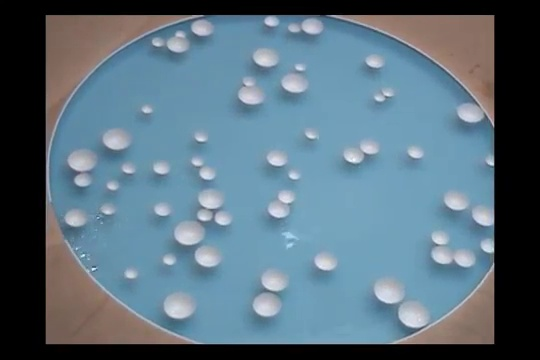bowl: (395, 299, 431, 329), (370, 274, 407, 303), (172, 219, 210, 246), (162, 291, 197, 319), (64, 147, 100, 172), (251, 291, 283, 318), (260, 267, 292, 292), (193, 244, 224, 268), (252, 46, 284, 69), (102, 128, 134, 150), (236, 85, 268, 107), (443, 188, 472, 212), (281, 72, 310, 95), (196, 187, 226, 208), (457, 102, 485, 124), (64, 205, 89, 229), (471, 203, 494, 228), (313, 249, 339, 271), (341, 146, 367, 167), (430, 244, 455, 265), (166, 33, 192, 53), (455, 245, 477, 268), (363, 52, 389, 71), (191, 19, 218, 37), (301, 16, 325, 36), (267, 200, 292, 218), (265, 148, 289, 166), (360, 137, 381, 157), (72, 172, 94, 190), (151, 159, 172, 177), (213, 208, 231, 228), (431, 228, 452, 245), (406, 144, 426, 160), (154, 201, 172, 218), (278, 188, 296, 205), (263, 15, 283, 29), (303, 126, 321, 141), (199, 166, 218, 180), (100, 202, 118, 216), (480, 236, 494, 254), (371, 92, 389, 106), (192, 130, 209, 144), (162, 251, 178, 265), (139, 103, 156, 116), (105, 178, 122, 191), (195, 209, 212, 222), (292, 62, 310, 74), (121, 162, 137, 175), (287, 21, 303, 34), (242, 74, 259, 86), (287, 167, 302, 180), (190, 155, 206, 167), (124, 266, 138, 279), (152, 35, 167, 47), (382, 87, 396, 98), (485, 152, 494, 168), (176, 30, 188, 39)
